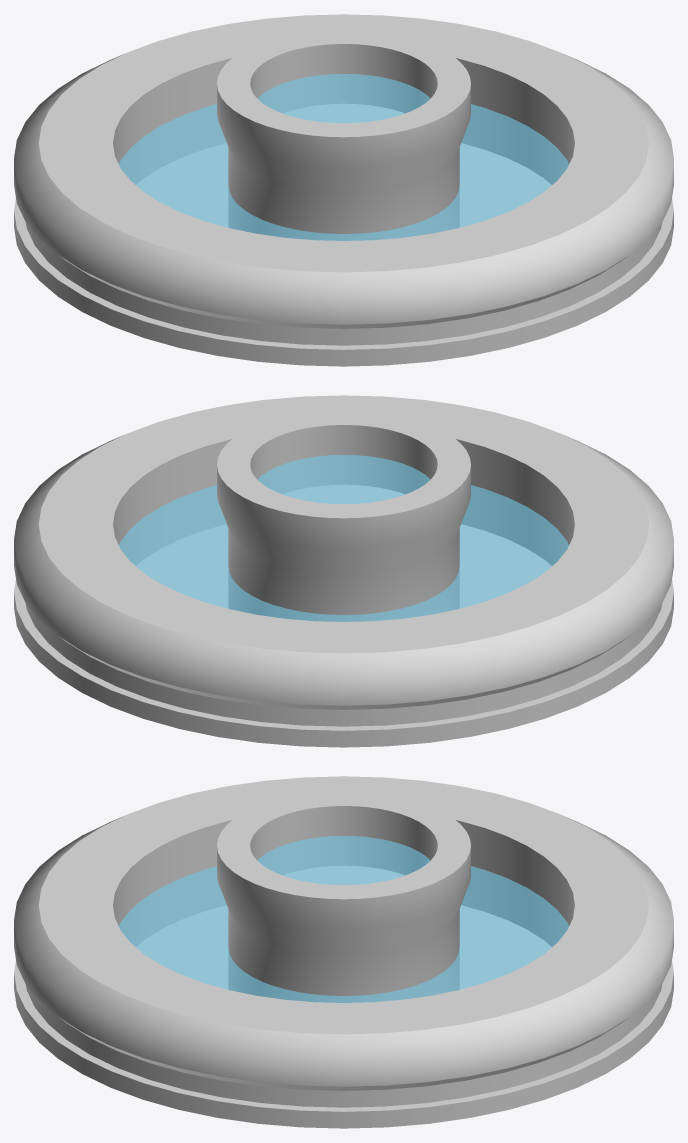
The model's file is fountain-round-detail.glb.
3 views of the same model, one above another, from view 1: azimuth 30°, elevation 25°; view 2: azimuth 150°, elevation 25°; view 3: azimuth 270°, elevation 25° (orthographic).
Visible parts, largest first — view 1: fountain-round-detail, (%ignore); view 2: fountain-round-detail, (%ignore); view 3: fountain-round-detail, (%ignore).
Boxes of the visible parts, bbox=[...] form: fountain-round-detail: bbox=[14, 14, 673, 366]; (%ignore): bbox=[119, 74, 568, 240]; fountain-round-detail: bbox=[14, 395, 673, 747]; (%ignore): bbox=[119, 455, 568, 621]; fountain-round-detail: bbox=[14, 776, 673, 1128]; (%ignore): bbox=[119, 836, 568, 1002].
Size of the model in its own units: 2 by 0.48 by 2.
